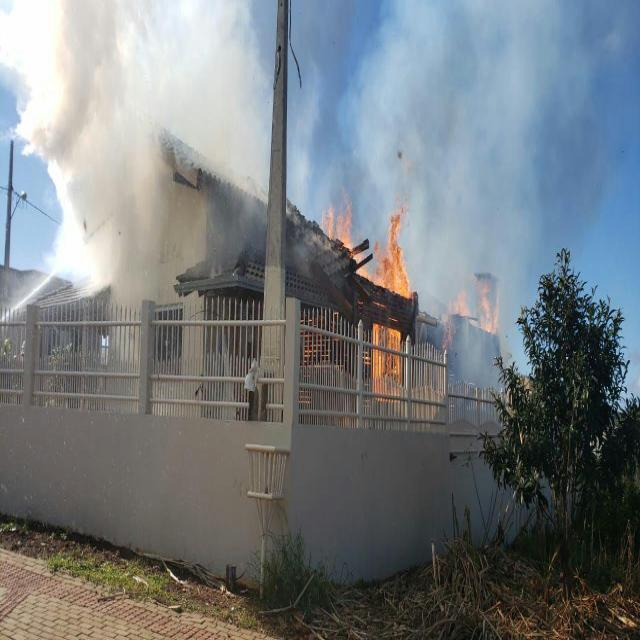Fire: (323, 200, 373, 288), (375, 202, 411, 296), (450, 274, 500, 332), (373, 323, 402, 394)
Smoke: (7, 0, 260, 319), (413, 0, 640, 268), (288, 6, 412, 194)
